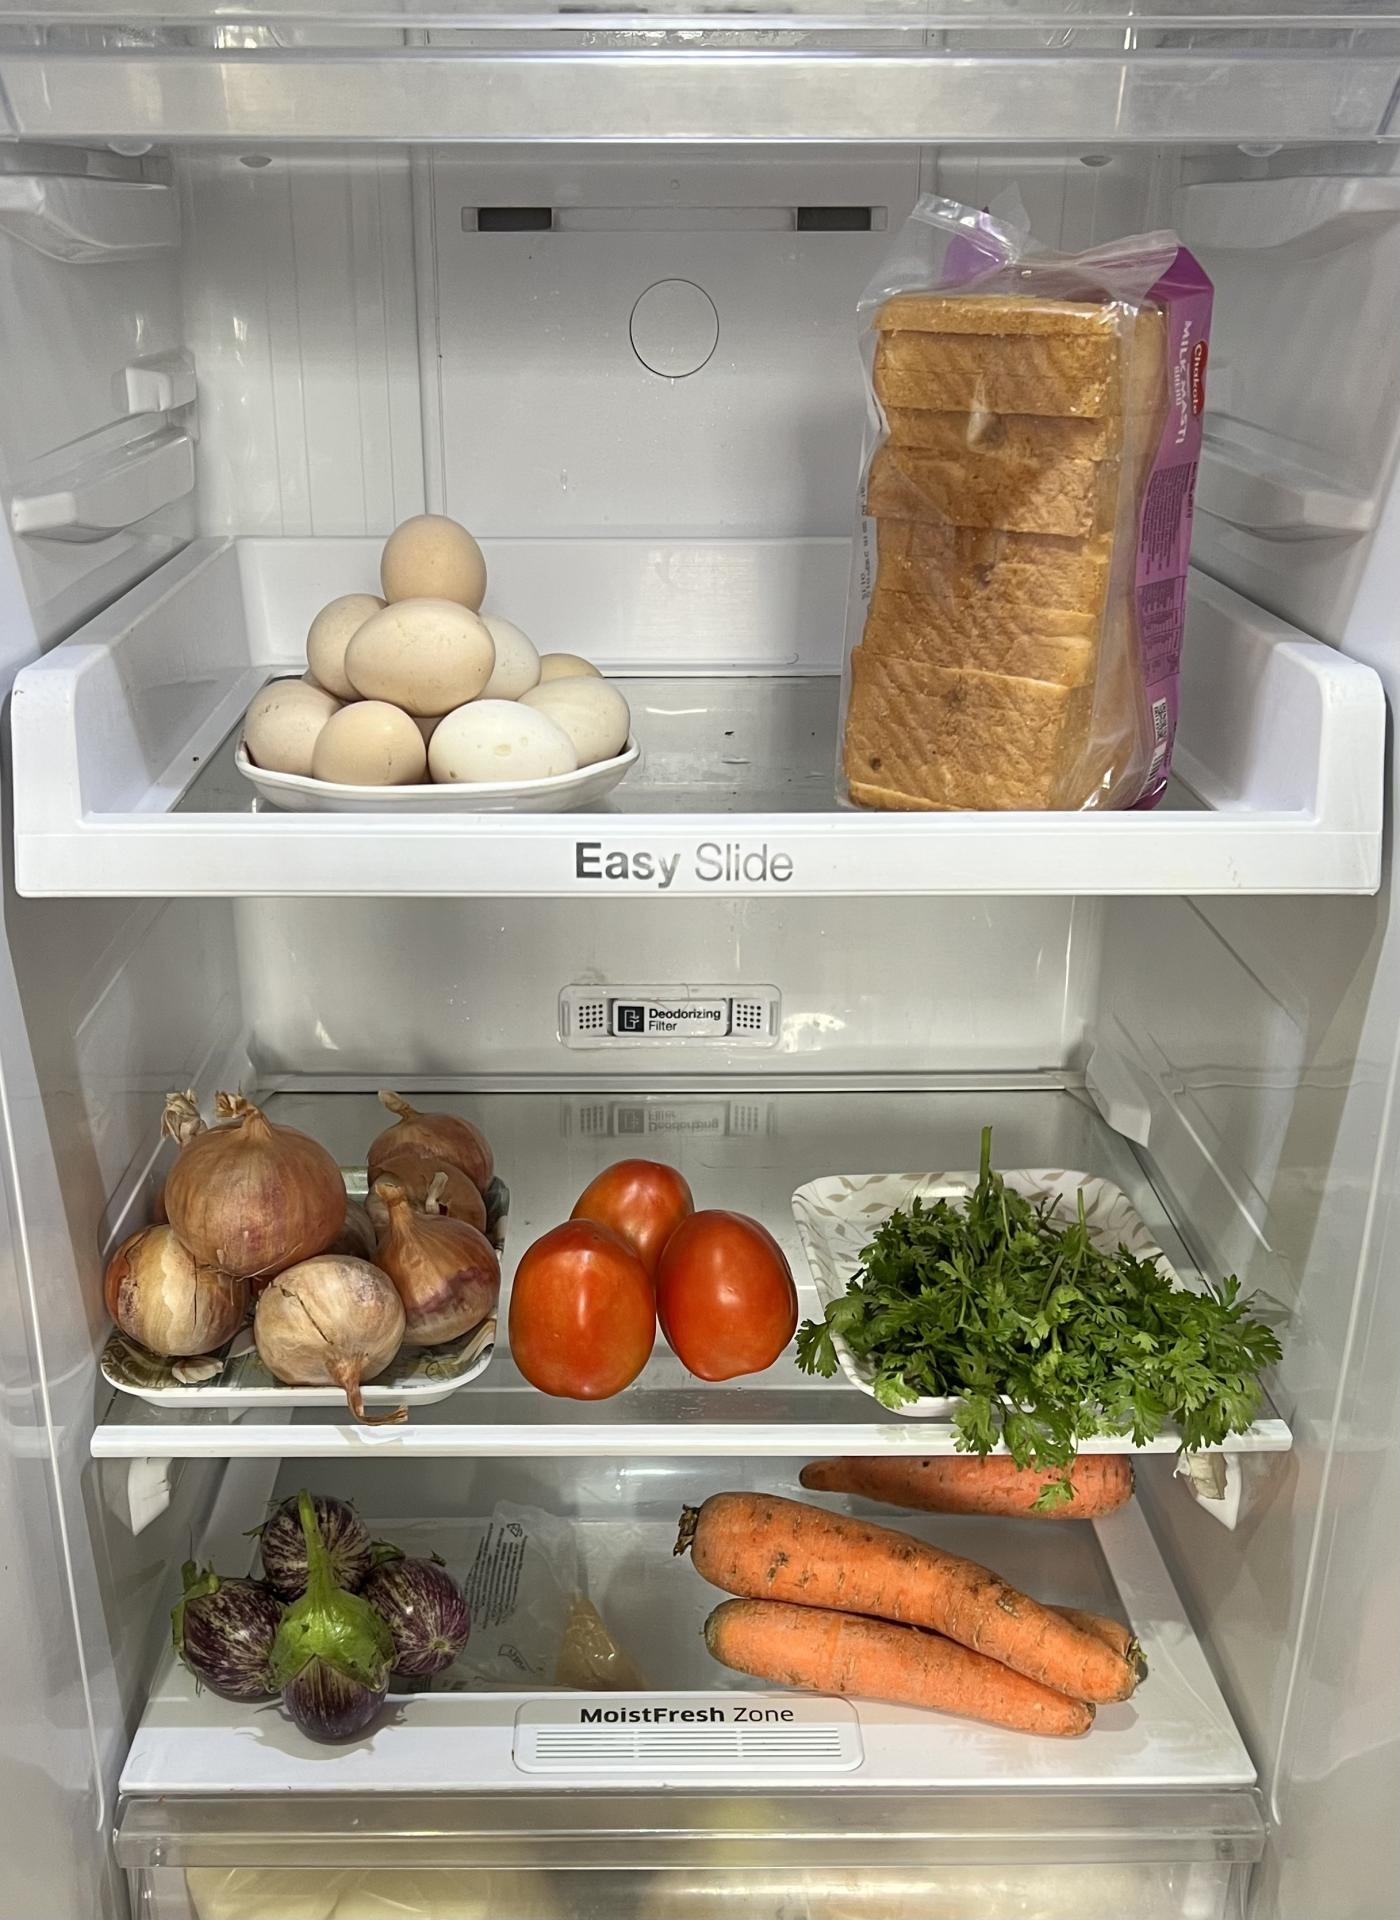bread: (830, 247, 1226, 824)
carrots: (678, 1453, 1188, 1734)
coriander: (827, 1172, 1270, 1443)
egg: (236, 504, 623, 793)
onion: (103, 1063, 492, 1410)
tomato: (511, 1149, 793, 1406)
